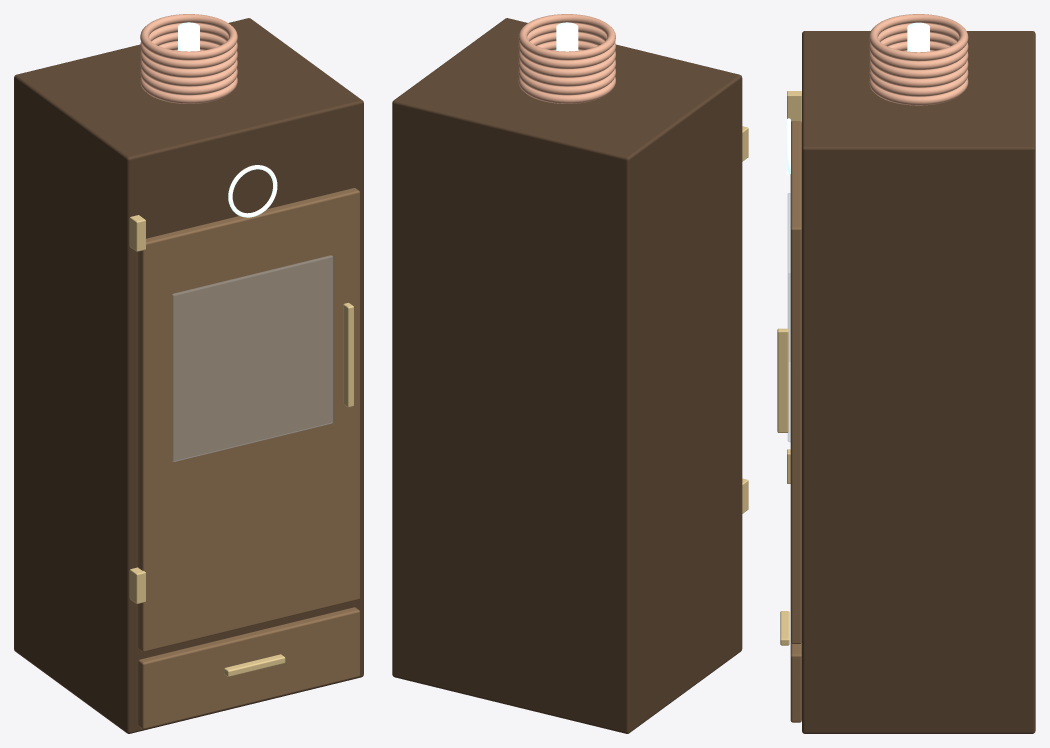
The model's file is icebox.gltf.
3 renders of one model, left to right at view 1: azimuth 30°, elevation 25°; view 2: azimuth 150°, elevation 25°; view 3: azimuth 270°, elevation 25°, orthographic.
Visible parts, largest first — view 1: Body, Door, Window, Drawer, Coil5, Coil4, Coil3, Coil2, Handle, Coil1, Coil0, RuneSeal (+4 smaller); view 2: Body, Coil5, Coil4, Coil3, Coil2, Coil1, Coil0, CoilCore; view 3: Body, Door, Coil5, Coil4, Coil3, Handle, Coil2, Coil1, Coil0, Drawer, Window, CoilCore (+1 smaller).
Boxes of the visible parts, x1=… form: Body: x1=14, y1=18, x2=363, y2=733; Door: x1=138, y1=188, x2=359, y2=652; Window: x1=172, y1=255, x2=332, y2=461; Drawer: x1=138, y1=607, x2=359, y2=729; Coil5: x1=140, y1=14, x2=237, y2=60; Coil4: x1=140, y1=23, x2=237, y2=68; Coil3: x1=140, y1=32, x2=237, y2=77; Coil2: x1=140, y1=41, x2=237, y2=86; Handle: x1=343, y1=302, x2=353, y2=407; Coil1: x1=140, y1=49, x2=237, y2=95; Coil0: x1=140, y1=77, x2=237, y2=103; RuneSeal: x1=228, y1=165, x2=277, y2=217; Body: x1=392, y1=18, x2=742, y2=733; Coil5: x1=518, y1=14, x2=615, y2=60; Coil4: x1=518, y1=23, x2=615, y2=68; Coil3: x1=518, y1=32, x2=615, y2=77; Coil2: x1=518, y1=41, x2=615, y2=86; Coil1: x1=518, y1=49, x2=615, y2=95; Coil0: x1=518, y1=77, x2=615, y2=103; CoilCore: x1=556, y1=22, x2=578, y2=51; Body: x1=802, y1=31, x2=1035, y2=733; Door: x1=790, y1=121, x2=801, y2=643; Coil5: x1=869, y1=14, x2=968, y2=61; Coil4: x1=869, y1=23, x2=968, y2=69; Coil3: x1=869, y1=32, x2=968, y2=78; Handle: x1=777, y1=328, x2=788, y2=432; Coil2: x1=869, y1=41, x2=968, y2=87; Coil1: x1=869, y1=50, x2=968, y2=96; Coil0: x1=869, y1=78, x2=968, y2=105; Drawer: x1=790, y1=642, x2=801, y2=722; Window: x1=787, y1=193, x2=790, y2=442; CoilCore: x1=907, y1=22, x2=929, y2=52.
Size of the model in its own units: 0.74 by 1.9 by 0.685.
